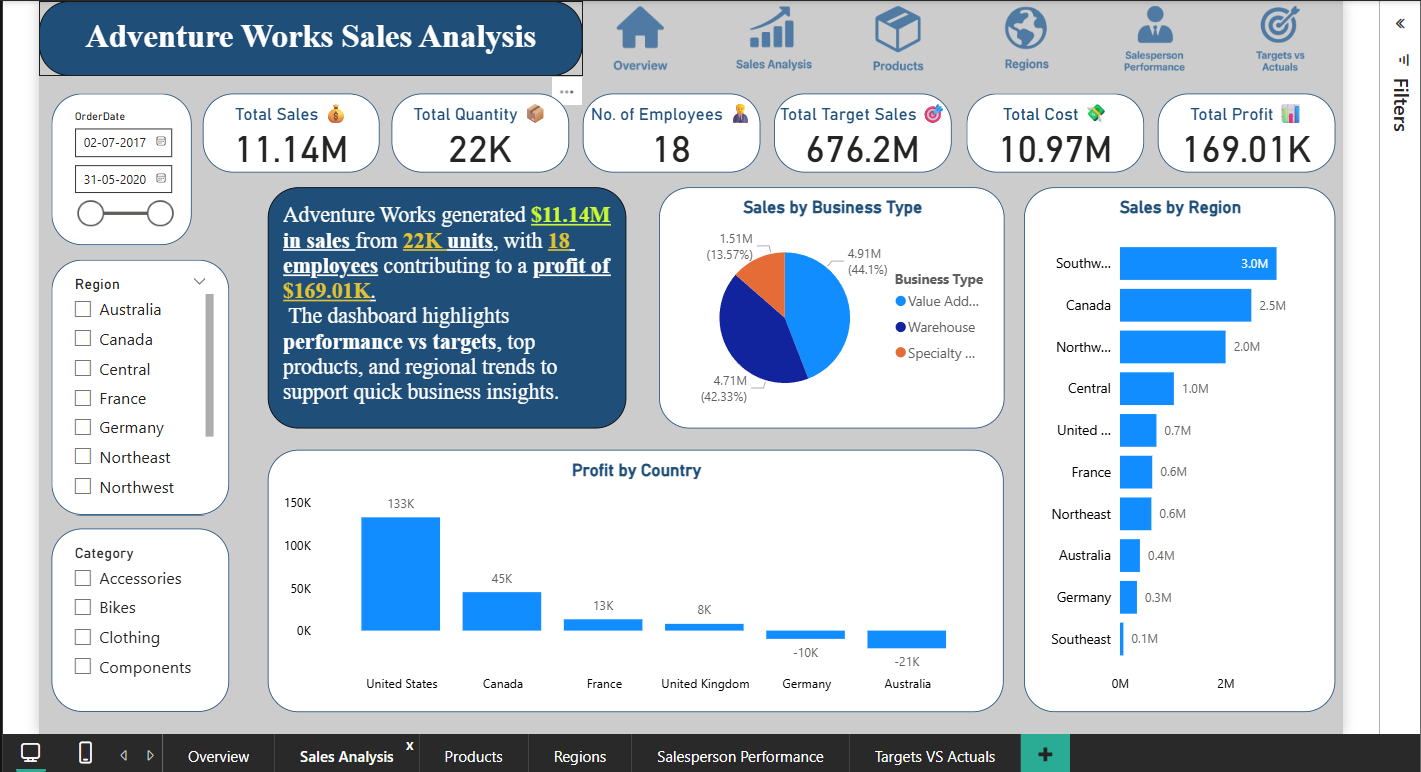

What the dashboard file says about the page in this screenshot:
{"tool":"powerbi","page":{"name":"Sales Analysis","canvas":[1280,720],"ordinal":1},"visuals":[{"type":"textbox","box":[0,0,533.7,73.6],"z":0},{"type":"image","box":[521.5,0,138.5,73.6],"z":0,"group":"g2"},{"type":"card","title":"Total Sales 💰","fields":{"Values":["adventure_works sales.Total Sales"]},"box":[160.7,91,173.7,77.9],"z":0,"group":"g1"},{"type":"image","box":[660,0,122.9,73.6],"z":1000,"group":"g2"},{"type":"group","id":"g1","title":"Group 1","box":[160.7,91,1111.7,78.5],"z":1000},{"type":"card","title":"Total Quantity 📦","fields":{"Values":["Sum(adventure_works sales.Quantity)"]},"box":[345.7,91.6,174.1,77.9],"z":1000,"group":"g1"},{"type":"group","id":"g2","title":"Group 2","box":[521.5,0,758.3,73.6],"z":2000},{"type":"image","box":[782.9,0,122.9,73.6],"z":2000,"group":"g2"},{"type":"card","title":"No. of Employees 👨💼","fields":{"Values":["Count(adventure_works salesperson.EmployeeID)"]},"box":[533.5,91.6,174.1,77.9],"z":2000,"group":"g1"},{"type":"image","box":[905.8,0,128.1,73.6],"z":3000,"group":"g2"},{"type":"card","title":"Total Target Sales 🎯","fields":{"Values":["Sum(adventure_works targets.Target)"]},"box":[721.3,91.6,174.1,77.9],"z":3000,"group":"g1"},{"type":"clusteredBarChart","title":"Sales by Region","fields":{"Category":["adventure_works region.Region"],"Y":["Sum(adventure_works sales.Sales)"]},"box":[966.9,182.8,305.5,515.3],"z":3000},{"type":"image","box":[1033.9,0,122.9,73.6],"z":4000,"group":"g2"},{"type":"slicer","fields":{"Values":["adventure_works sales.OrderDate"]},"box":[12.3,90.8,137.4,148.5],"z":4000},{"type":"card","title":"Total Cost 💸","fields":{"Values":["Sum(adventure_works sales.Cost)"]},"box":[910.5,91.6,174.1,77.9],"z":4000,"group":"g1"},{"type":"image","box":[1156.9,0,122.9,73.6],"z":5000,"group":"g2"},{"type":"card","title":"Total Profit 📊","fields":{"Values":["adventure_works sales.Total Profit"]},"box":[1098.3,91.6,174.1,77.9],"z":5000,"group":"g1"},{"type":"slicer","fields":{"Values":["adventure_works region.Region"]},"box":[12.3,254,174.2,250.3],"z":5000},{"type":"slicer","fields":{"Values":["adventure_works product.Category"]},"box":[12.3,517.8,174.2,180.4],"z":6000},{"type":"textbox","box":[224.5,182.8,352.1,236.8],"z":7000},{"type":"pieChart","title":"Sales by Business Type","fields":{"Y":["Sum(adventure_works sales.Sales)"],"Category":["adventure_works reseller.Business Type"]},"box":[608,182.3,339.5,236.5],"z":8000},{"type":"clusteredColumnChart","title":"Profit by Country","fields":{"Y":["adventure_works sales.Total Profit"],"Category":["adventure_works reseller.Country"]},"box":[224.5,440.5,722.7,257.7],"z":9000}]}

Visuals, with their boxes on the page's 1280x720 design canvas (x1, y1, x2, y2). These are canvas units, not pixel positions in the 1421x772 screenshot, which may show the page scaled, cropped or inside an application window:
textbox: 0 0 534 74
image: 522 0 660 74
"Total Sales 💰" card: 161 91 334 169
image: 660 0 783 74
"Group 1" group: 161 91 1272 170
"Total Quantity 📦" card: 346 92 520 170
"Group 2" group: 522 0 1280 74
image: 783 0 906 74
"No. of Employees 👨💼" card: 534 92 708 170
image: 906 0 1034 74
"Total Target Sales 🎯" card: 721 92 895 170
"Sales by Region" clusteredBarChart: 967 183 1272 698
image: 1034 0 1157 74
slicer - adventure_works sales.OrderDate: 12 91 150 239
"Total Cost 💸" card: 910 92 1085 170
image: 1157 0 1280 74
"Total Profit 📊" card: 1098 92 1272 170
slicer - adventure_works region.Region: 12 254 186 504
slicer - adventure_works product.Category: 12 518 186 698
textbox: 224 183 577 420
"Sales by Business Type" pieChart: 608 182 948 419
"Profit by Country" clusteredColumnChart: 224 440 947 698
